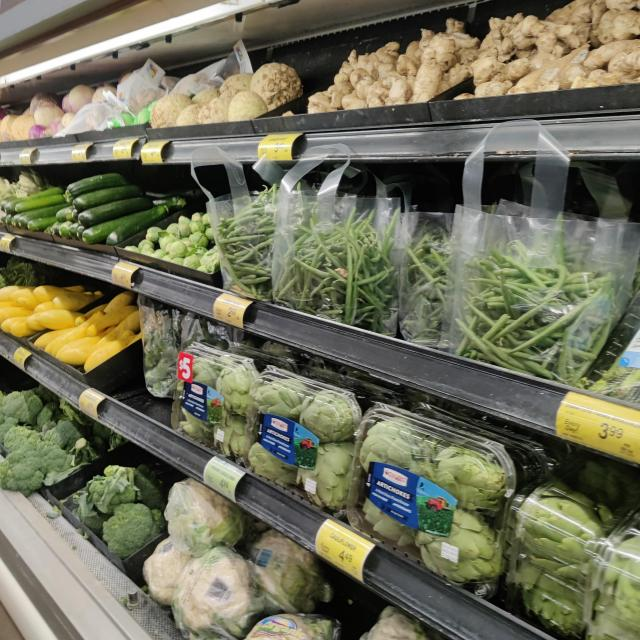Broccoli: (103, 504, 165, 559), (92, 466, 140, 516), (0, 446, 46, 495), (1, 391, 45, 423)
Cauliflower: (169, 548, 263, 640), (254, 532, 336, 608), (170, 476, 247, 551), (252, 616, 348, 640)
Squash: (13, 295, 85, 334), (59, 332, 132, 362), (90, 305, 143, 336)
Zucchini: (82, 204, 170, 242), (76, 198, 150, 225), (73, 187, 145, 210), (16, 199, 73, 226), (4, 189, 64, 212), (64, 175, 126, 197)
